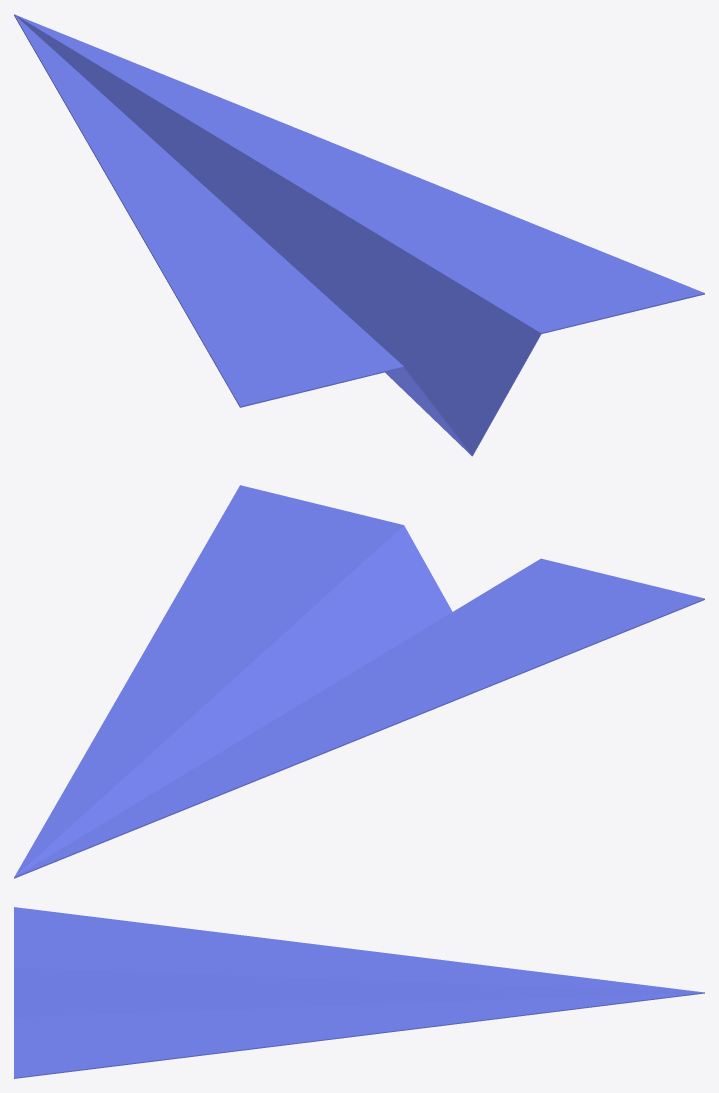
3 renders of one model, top to bottom at view 1: azimuth 30°, elevation 25°; view 2: azimuth 150°, elevation 25°; view 3: azimuth 270°, elevation 25°, orthographic. The views are drawn at different scales.
Visible parts, largest first — view 1: Plane; view 2: Plane; view 3: Plane.
Part boxes in pixels (box(x1,y1,x2,y2)): Plane: box(14, 14, 704, 456); Plane: box(14, 485, 704, 878); Plane: box(14, 907, 704, 1078).
Bounding box in the file's own units: 1086 × 239 × 1855.
